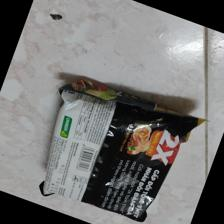3mien: (38, 77, 207, 223)
